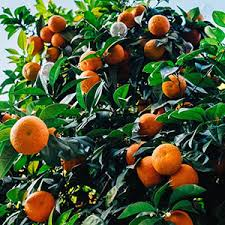orange: (9, 113, 49, 156), (150, 143, 182, 176), (24, 189, 58, 220), (134, 157, 160, 188), (171, 165, 199, 191), (136, 112, 162, 139), (161, 73, 187, 98), (75, 50, 104, 70), (78, 67, 99, 93), (146, 14, 170, 36)
